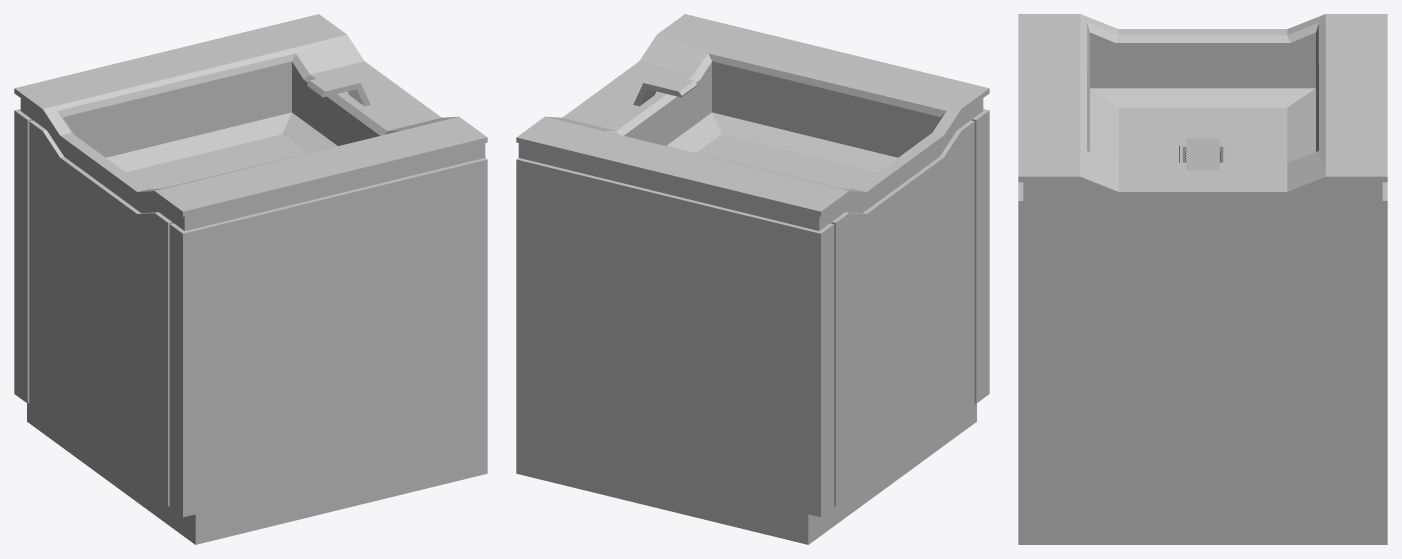
The model's file is Desk_02_F.FBX.
The picture shows the model from 3 angles, left to right: view 1: azimuth 30°, elevation 25°; view 2: azimuth 150°, elevation 25°; view 3: azimuth 270°, elevation 25°; orthographic projection. The views are drawn at different scales.
Parts seen in each view (by area): view 1: Desk_02_F_LOD0; view 2: Desk_02_F_LOD0; view 3: Desk_02_F_LOD0.
Part boxes in pixels (left/top/right/bottom): Desk_02_F_LOD0: left=14, top=14, right=487, bottom=544; Desk_02_F_LOD0: left=516, top=14, right=989, bottom=544; Desk_02_F_LOD0: left=1018, top=14, right=1387, bottom=544.
Size of what is drawn, in the model's own units: 37.54 by 40.85 by 36.
